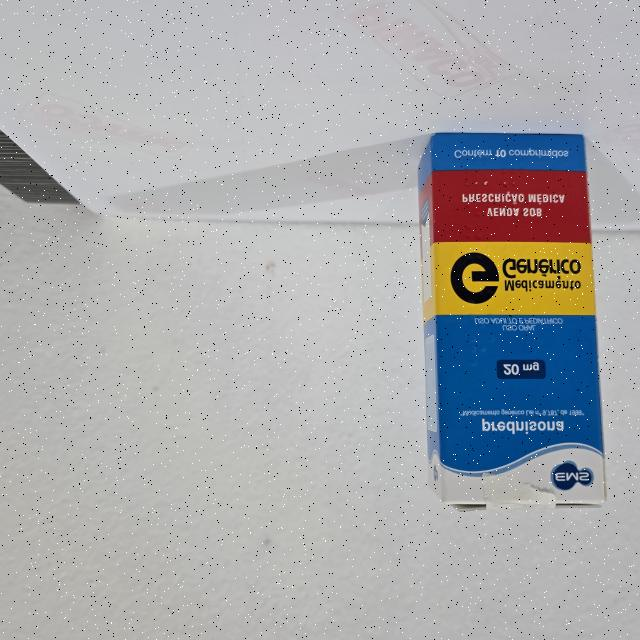prednisona: (414, 130, 609, 515)
